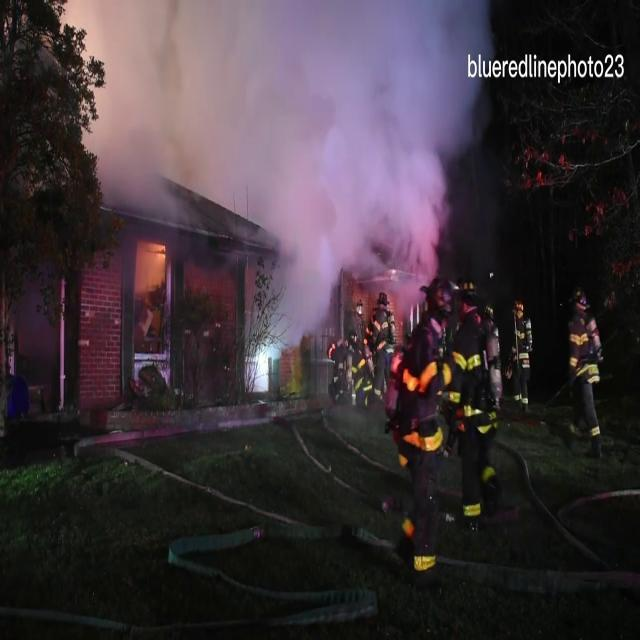Smoke: (72, 0, 478, 285)
